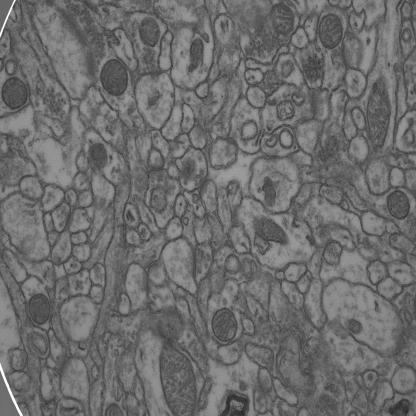mitochondria: (155, 344, 197, 416), (368, 82, 392, 148), (99, 60, 129, 97), (254, 216, 288, 245), (318, 14, 344, 51), (1, 75, 29, 109), (211, 307, 237, 342), (271, 2, 294, 36), (86, 141, 109, 174), (28, 294, 51, 326), (138, 18, 160, 48), (388, 192, 408, 221), (189, 39, 204, 68)
